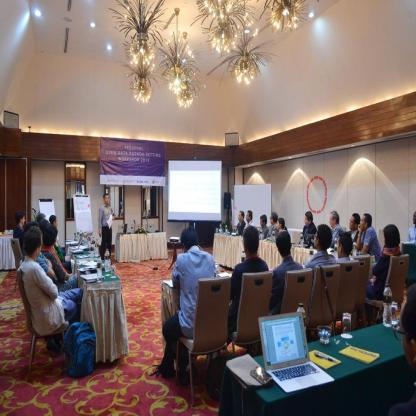board: (258, 309, 335, 394), (384, 283, 392, 326), (69, 232, 84, 251), (298, 305, 306, 337), (97, 255, 103, 281), (105, 249, 110, 272), (84, 232, 89, 247), (95, 239, 99, 257), (353, 240, 357, 257), (272, 228, 276, 245), (310, 244, 314, 260), (300, 232, 304, 248), (88, 234, 92, 248), (92, 236, 95, 254), (91, 242, 94, 259), (334, 242, 337, 258), (79, 230, 83, 241), (77, 228, 80, 242), (225, 223, 228, 234), (334, 235, 338, 243), (260, 227, 262, 240), (132, 224, 134, 235), (121, 224, 123, 235), (220, 223, 222, 233), (150, 223, 152, 232)
